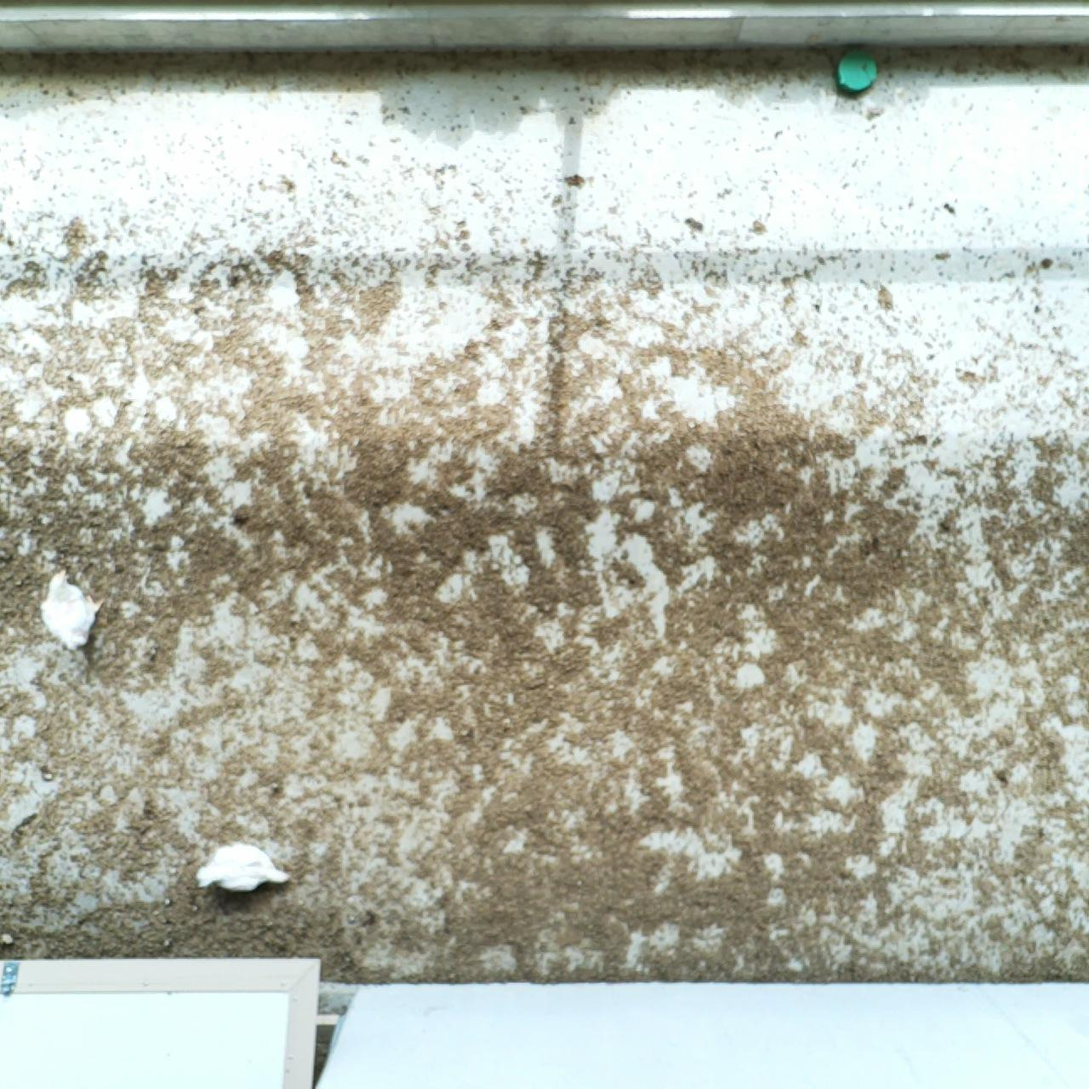chicken: (194, 832, 295, 900), (35, 566, 104, 655)
